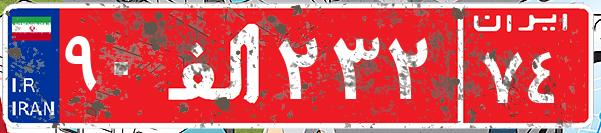0: (110, 28, 158, 105)
2: (385, 28, 445, 110), (273, 28, 330, 110)
3: (330, 28, 385, 110)
4: (525, 38, 570, 115)
7: (475, 38, 525, 113)
9: (57, 26, 110, 107)
الف: (158, 15, 273, 115)
